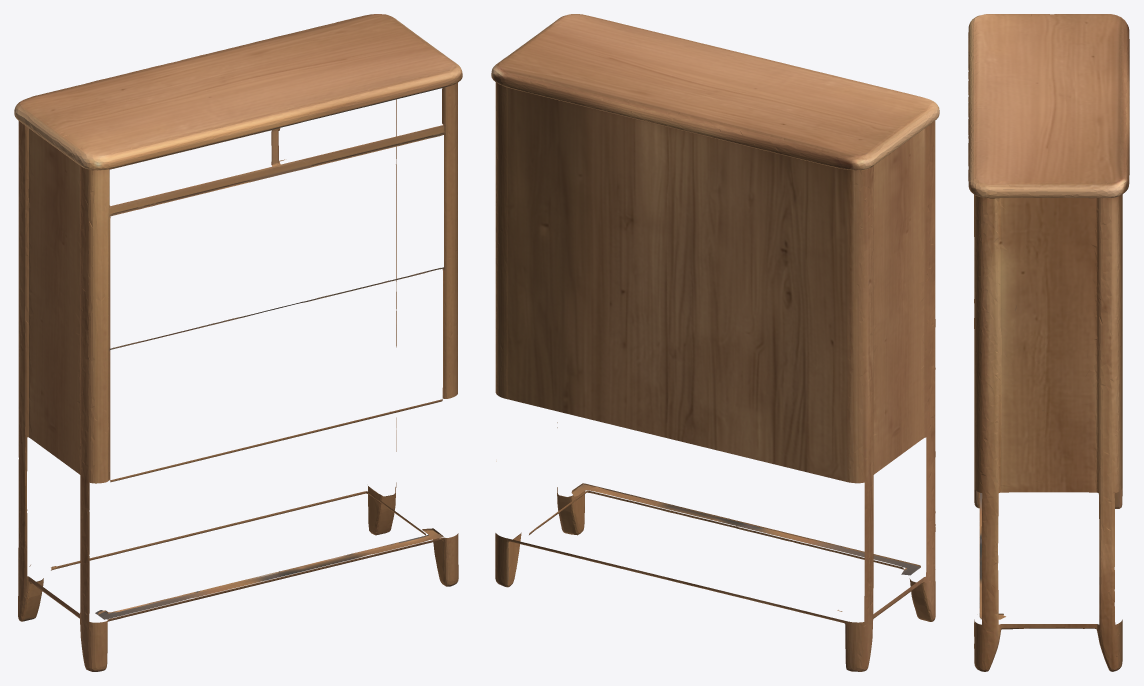
The model's file is body.glb.
3 views of the same model, side by side, from view 1: azimuth 30°, elevation 25°; view 2: azimuth 150°, elevation 25°; view 3: azimuth 270°, elevation 25° (orthographic). The views are drawn at different scales.
Parts seen in each view (by area): view 1: source_surface_0; view 2: source_surface_0; view 3: source_surface_0.
Boxes of the visible parts, box(x1,y1,x2,y2) form: source_surface_0: box(14, 14, 462, 671); source_surface_0: box(491, 14, 939, 671); source_surface_0: box(968, 14, 1129, 671).
Bounding box in the file's own units: 0.9236 × 1.2 × 0.3585.
Materials: 1 (1 with a texture image).
